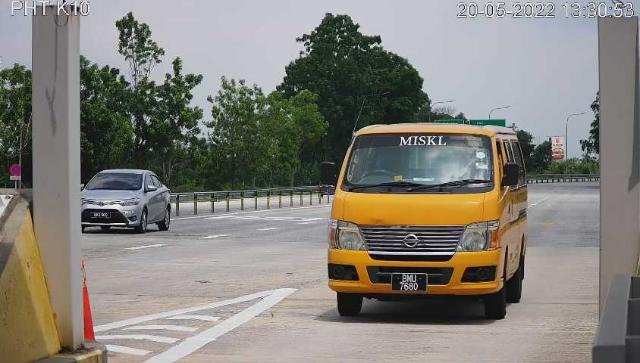License_Plate: (392, 274, 430, 296)
van: (330, 124, 529, 322)
